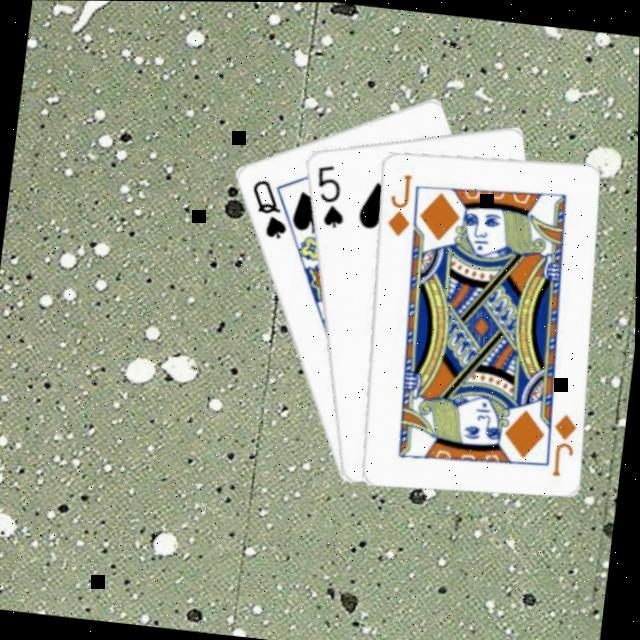5S: (306, 158, 352, 230)
JD: (381, 166, 417, 238), (545, 406, 581, 478)
QS: (242, 172, 294, 240)
